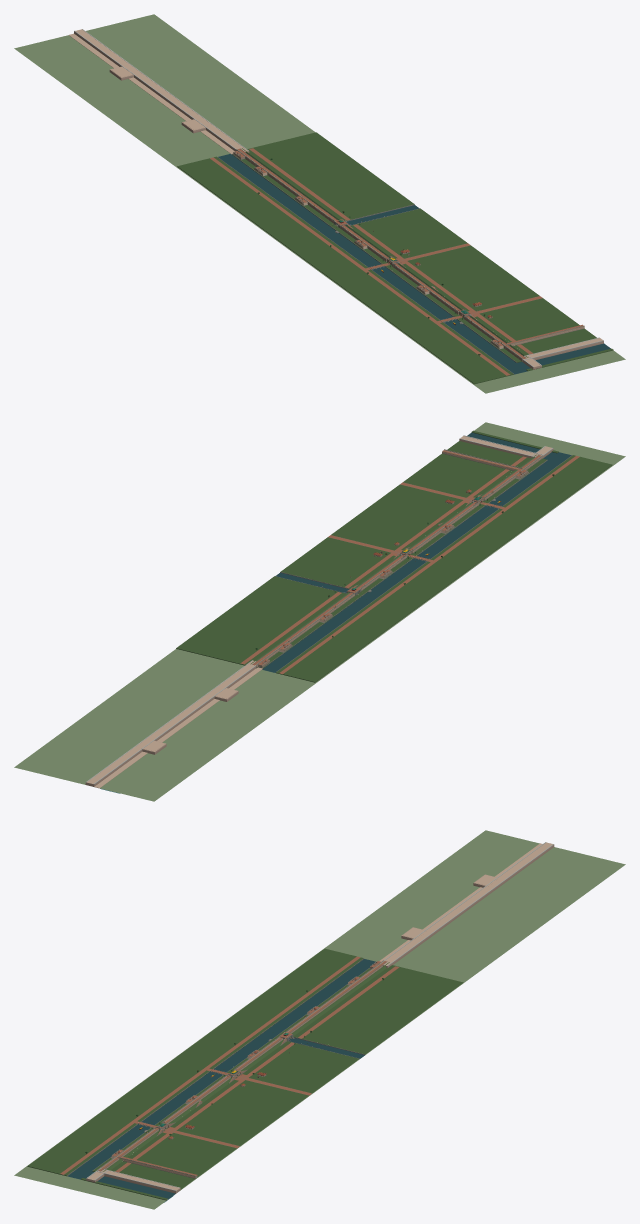
File: T25_thanh_vauban_tay.glb
3 views of the same model, one above another, from view 1: azimuth 30°, elevation 25°; view 2: azimuth 150°, elevation 25°; view 3: azimuth 330°, elevation 25° (orthographic).
Parts seen in each view (by area): view 1: T25_Terrain, T25_V2_Satellite_Seamless_Base, T25_Vauban_Wall; view 2: T25_Terrain, T25_V2_Satellite_Seamless_Base, T25_Vauban_Wall; view 3: T25_Terrain, T25_V2_Satellite_Seamless_Base, T25_Vauban_Wall.
Part boxes in pixels (<box>): T25_Terrain: <box>177,132,613,384</box>; T25_V2_Satellite_Seamless_Base: <box>14,14,625,393</box>; T25_Vauban_Wall: <box>233,148,584,361</box>; T25_Terrain: <box>176,430,612,682</box>; T25_V2_Satellite_Seamless_Base: <box>14,422,625,801</box>; T25_Vauban_Wall: <box>250,449,542,667</box>; T25_Terrain: <box>27,948,463,1200</box>; T25_V2_Satellite_Seamless_Base: <box>14,830,625,1209</box>; T25_Vauban_Wall: <box>97,960,389,1178</box>.
Size of the model in its own units: 360 by 15.14 by 2095.
22 materials, 4 textured.
